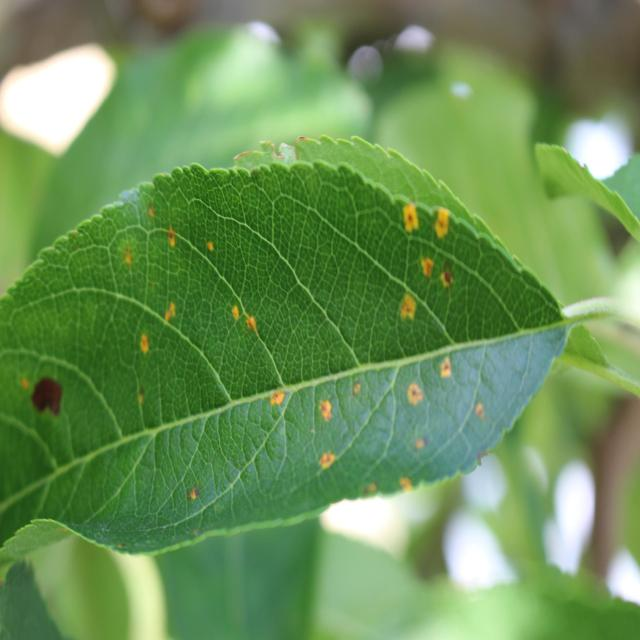Black Rot: (27, 368, 80, 426)
Rust: (221, 297, 265, 341), (395, 190, 424, 247), (130, 183, 163, 230), (253, 376, 296, 412), (434, 344, 462, 394), (385, 471, 420, 507), (398, 373, 427, 414), (174, 484, 212, 515), (427, 202, 455, 244), (161, 210, 185, 258), (200, 229, 225, 275), (159, 290, 182, 338), (126, 327, 156, 363), (314, 448, 346, 480), (398, 289, 420, 332), (314, 389, 338, 426), (406, 431, 437, 459), (11, 366, 32, 407), (118, 239, 139, 277), (439, 266, 461, 300), (414, 253, 440, 278), (347, 372, 366, 406), (134, 383, 155, 410), (472, 398, 488, 430)
